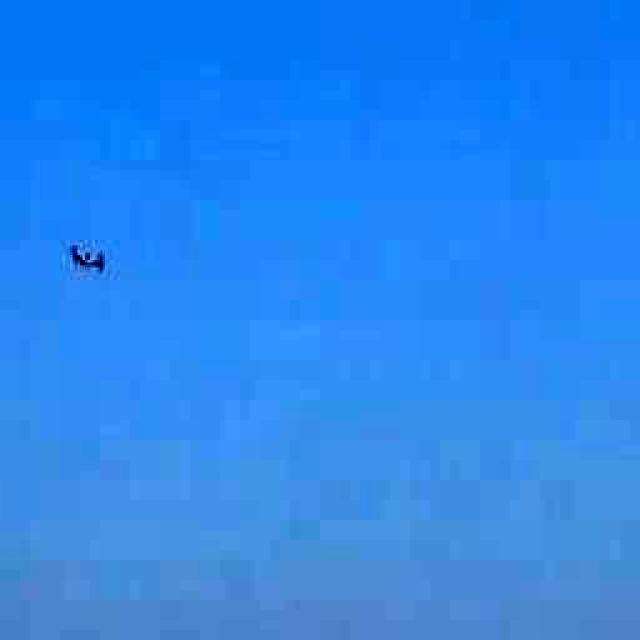bird: (61, 211, 116, 291)
